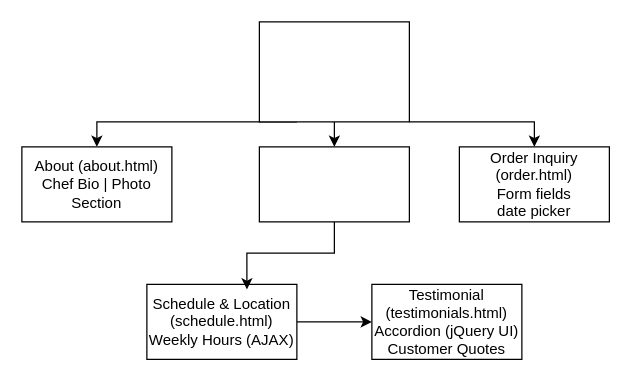
This 631x381 diagram has some shape labels left out. The centre of each missing label's shape, as x and y in pixels:
"Gallery (gallery.html) Cakes | Cupcakes | Specialty Desserts | Lightbox Viewer" goes at point (333, 184).
"Home (index.html) hero section | Featured Cakes | Navigation Bar" goes at point (333, 71).
